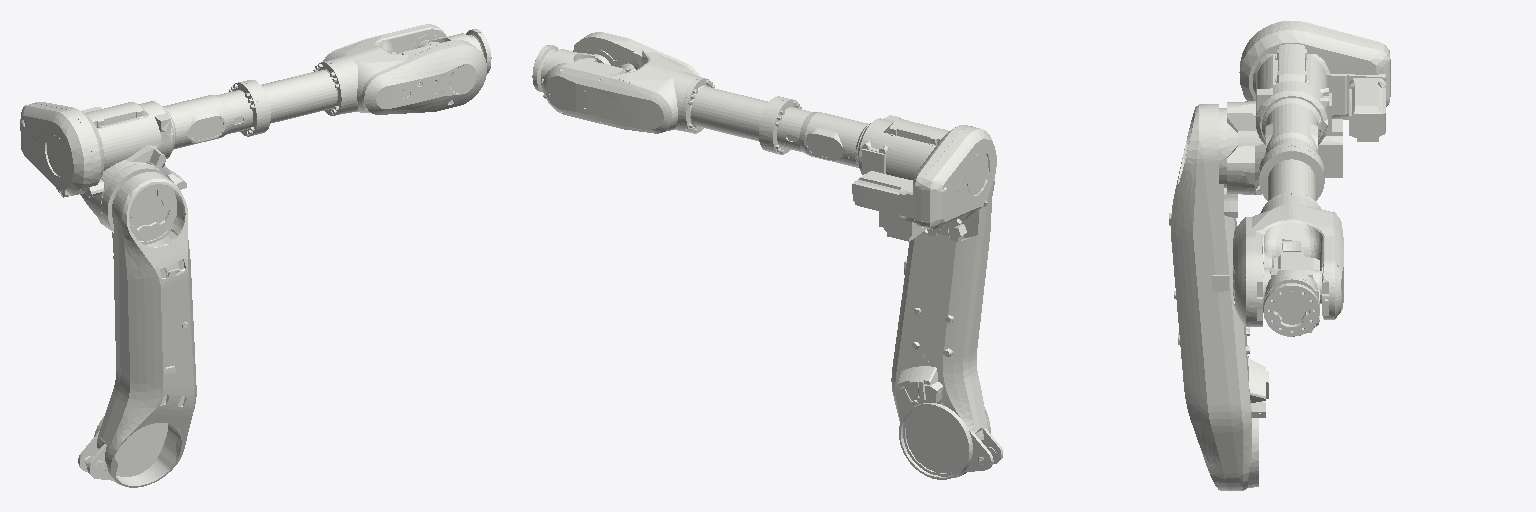
robot.urdf — abb_irb6700_175_305:
<?xml version="1.0" ?>
<!-- =================================================================================== -->
<!-- |    This document was autogenerated by xacro from irb6700_175_305.xacro          | -->
<!-- |    EDITING THIS FILE BY HAND IS NOT RECOMMENDED                                 | -->
<!-- =================================================================================== -->
<robot name="abb_irb6700_175_305">
  <transform tf_rb_ub="0.0 0.0 0.0 0.0 0.0 0.0 1.0" tf_rf_uf="0.0 0.0 0.0 0.0 0.0 0.0 1.0">
  </transform>
  <constraint coeff="0.0 0.0 0.0 1.0 0.0 0.0" lower_bound="0.0" upper_bound="0.0"/>
  <constraint coeff="0.0 1.0 1.0 0.0 1.0 0.0" lower_bound="1.5707963267948966" upper_bound="1.5707963267948966"/>
  <!-- Conversion were obtained from http://www.e-paint.co.uk/Lab_values.asp
       unless otherwise stated. -->
  <!-- link list -->
  <link name="base_link">
    <visual>
      <origin rpy="0 0 0" xyz="0 0 0"/>
      <geometry>
        <mesh filename="package://abb_irb6700_support/meshes/irb6700_175_305/visual/base_link.stl"/>
      </geometry>
      <material name="">
        <color rgba="0.9254902 0.9254902 0.9058824 1"/>
      </material>
    </visual>
    <collision>
      <origin rpy="0 0 0" xyz="0 0 0"/>
      <geometry>
        <mesh filename="package://abb_irb6700_support/meshes/irb6700_175_305/collision/base_link.stl"/>
      </geometry>
      <material name="">
        <color rgba="1 1 0 1"/>
      </material>
    </collision>
  </link>
  <link name="link_1">
    <visual>
      <origin rpy="0 0 0" xyz="0 0 -0.78"/>
      <geometry>
        <mesh filename="package://abb_irb6700_support/meshes/irb6700_175_305/visual/link_1.stl"/>
      </geometry>
      <material name="">
        <color rgba="0.9254902 0.9254902 0.9058824 1"/>
      </material>
    </visual>
    <collision>
      <origin rpy="0 0 0" xyz="0 0 -0.78"/>
      <geometry>
        <mesh filename="package://abb_irb6700_support/meshes/irb6700_175_305/collision/link_1.stl"/>
      </geometry>
      <material name="">
        <color rgba="1 1 0 1"/>
      </material>
    </collision>
  </link>
  <link name="link_2">
    <visual>
      <origin rpy="0 0 0" xyz="-0.32 0 -0.78"/>
      <geometry>
        <mesh filename="package://abb_irb6700_support/meshes/irb6700_175_305/visual/link_2.stl"/>
      </geometry>
      <material name="">
        <color rgba="0.9254902 0.9254902 0.9058824 1"/>
      </material>
    </visual>
    <collision>
      <origin rpy="0 0 0" xyz="-0.32 0 -0.78"/>
      <geometry>
        <mesh filename="package://abb_irb6700_support/meshes/irb6700_175_305/collision/link_2.stl"/>
      </geometry>
      <material name="">
        <color rgba="1 1 0 1"/>
      </material>
    </collision>
  </link>
  <link name="link_3">
    <visual>
      <origin rpy="0 0 0" xyz="-0.32 0 -1.915"/>
      <geometry>
        <mesh filename="package://abb_irb6700_support/meshes/irb6700_175_305/visual/link_3.stl"/>
      </geometry>
      <material name="">
        <color rgba="0.9254902 0.9254902 0.9058824 1"/>
      </material>
    </visual>
    <collision>
      <origin rpy="0 0 0" xyz="-0.32 0 -1.915"/>
      <geometry>
        <mesh filename="package://abb_irb6700_support/meshes/irb6700_175_305/collision/link_3.stl"/>
      </geometry>
      <material name="">
        <color rgba="1 1 0 1"/>
      </material>
    </collision>
  </link>
  <link name="link_4">
    <visual>
      <origin rpy="0 0 0" xyz="-0.32 0 -2.115"/>
      <geometry>
        <mesh filename="package://abb_irb6700_support/meshes/irb6700_175_305/visual/link_4.stl"/>
      </geometry>
      <material name="">
        <color rgba="0.9254902 0.9254902 0.9058824 1"/>
      </material>
    </visual>
    <collision>
      <origin rpy="0 0 0" xyz="-0.32 0 -2.115"/>
      <geometry>
        <mesh filename="package://abb_irb6700_support/meshes/irb6700_175_305/collision/link_4.stl"/>
      </geometry>
      <material name="">
        <color rgba="1 1 0 1"/>
      </material>
    </collision>
  </link>
  <link name="link_5">
    <visual>
      <origin rpy="0 0 0" xyz="-1.9125 0 -2.115"/>
      <geometry>
        <mesh filename="package://abb_irb6700_support/meshes/irb6700_175_305/visual/link_5.stl"/>
      </geometry>
      <material name="">
        <color rgba="0.9254902 0.9254902 0.9058824 1"/>
      </material>
    </visual>
    <collision>
      <origin rpy="0 0 0" xyz="-1.9125 0 -2.115"/>
      <geometry>
        <mesh filename="package://abb_irb6700_support/meshes/irb6700_175_305/collision/link_5.stl"/>
      </geometry>
      <material name="">
        <color rgba="1 1 0 1"/>
      </material>
    </collision>
  </link>
  <link name="link_6">
    <visual>
      <origin rpy="3.141592653589793 -1.5707963267948966 0" xyz="-2.115 0 -2.1125"/>
      <geometry>
        <mesh filename="package://abb_irb6700_support/meshes/irb6700_175_305/visual/link_6.stl"/>
      </geometry>
      <material name="">
        <color rgba="0.9254902 0.9254902 0.9058824 1"/>
      </material>
    </visual>
    <collision>
      <origin rpy="3.141592653589793 -1.5707963267948966 0" xyz="-2.115 0 -2.1125"/>
      <geometry>
        <mesh filename="package://abb_irb6700_support/meshes/irb6700_175_305/collision/link_6.stl"/>
      </geometry>
      <material name="">
        <color rgba="1 1 0 1"/>
      </material>
    </collision>
  </link>
  <joint name="joint1" type="revolute">
    <origin rpy="0 0 0" xyz="0 0 0.78"/>
    <parent link="base_link"/>
    <child link="link_1"/>
    <axis xyz="0 0 1"/>
    <limit effort="0" lower="-2.9670597283903604" upper="2.9670597283903604" velocity="1.7453292519943295"/>
  </joint>
  <joint name="joint2" type="revolute">
    <origin rpy="0 0 0" xyz="0.32 0 0"/>
    <parent link="link_1"/>
    <child link="link_2"/>
    <axis xyz="0 1 0"/>
    <limit effort="0" lower="-1.1344640137963142" upper="1.4835298641951802" velocity="1.5707963267948966"/>
  </joint>
  <joint name="joint3" type="revolute">
    <origin rpy="0 0 0" xyz="0 0 1.135"/>
    <parent link="link_2"/>
    <child link="link_3"/>
    <axis xyz="0 1 0"/>
    <limit effort="0" lower="-3.141592653589793" upper="1.2042771838760873" velocity="1.5707963267948966"/>
  </joint>
  <joint name="joint4" type="revolute">
    <origin rpy="0 0 0" xyz="0 0 0.2"/>
    <parent link="link_3"/>
    <child link="link_4"/>
    <axis xyz="1 0 0"/>
    <limit effort="0" lower="-5.235987755982989" upper="5.235987755982989" velocity="2.9670597283903604"/>
  </joint>
  <joint name="joint5" type="revolute">
    <origin rpy="0 0 0" xyz="1.5925 0 0"/>
    <parent link="link_4"/>
    <child link="link_5"/>
    <axis xyz="0 1 0"/>
    <limit effort="0" lower="-2.2689280275926285" upper="2.2689280275926285" velocity="2.0943951023931953"/>
  </joint>
  <joint name="joint6" type="revolute">
    <origin rpy="0 1.5707963267948966 0" xyz="0.2 0 0"/>
    <parent link="link_5"/>
    <child link="link_6"/>
    <axis xyz="0 0 1"/>
    <limit effort="0" lower="-6.283185307179586" upper="6.283185307179586" velocity="3.3161255787892263"/>
  </joint>
</robot>

--- Facts derived from the render (not from the file) ---
The picture shows the robot from 3 angles, left to right: view 1: azimuth 30°, elevation 25°; view 2: azimuth 150°, elevation 25°; view 3: azimuth 270°, elevation 25°; orthographic projection.
Model abb_irb6700_175_305 with 7 links and 6 joints (6 revolute), rooted at base_link, posed every joint at zero.
Links seen in each view (by area): view 1: link_2, link_4, link_3; view 2: link_2, link_4, link_3, link_5; view 3: link_2, link_3, link_4, link_6, link_5.
Boxes of the visible links, x1,y1,x2,y2 form: link_2: (78, 172, 196, 487); link_4: (47, 24, 486, 174); link_3: (20, 101, 186, 231); link_2: (891, 180, 1002, 479); link_4: (541, 32, 987, 193); link_3: (852, 115, 996, 241); link_5: (542, 49, 626, 98); link_2: (1169, 104, 1268, 490); link_3: (1219, 21, 1390, 194); link_4: (1233, 98, 1343, 326); link_6: (1264, 283, 1319, 336); link_5: (1264, 252, 1319, 332).
Size in the robot's own frame: 2.08 by 0.7819 by 1.71 metres.
Meshes: 7 distinct files referenced, 5 mesh visuals loaded (5 binary STL); not drawn: 2 (reference not matched to a file when rendering).